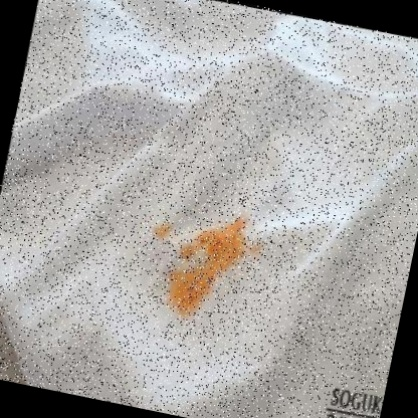kimchi: (158, 202, 271, 335), (149, 212, 172, 247)
